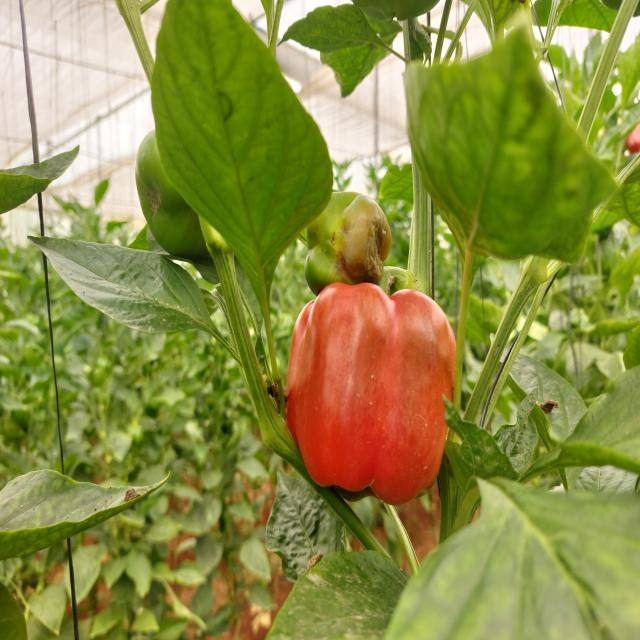Red-Ready-to-Harvest: (284, 280, 458, 504)
